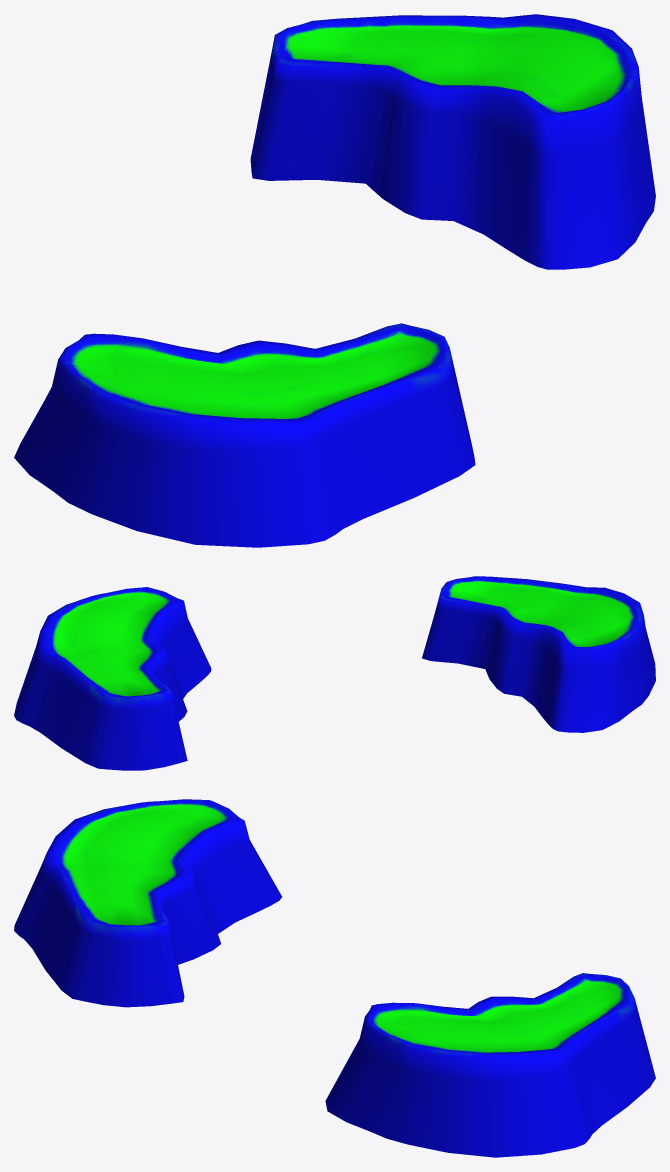
File: SisterIslandsShape.dae
3 views of the same model, one above another, from view 1: azimuth 30°, elevation 25°; view 2: azimuth 150°, elevation 25°; view 3: azimuth 270°, elevation 25° (orthographic). The views are drawn at different scales.
Visible parts, largest first — view 1: SisterIslands; view 2: SisterIslands; view 3: SisterIslands.
Boxes of the visible parts, box(x1,y1,x2,y2) form: SisterIslands: box(14, 14, 655, 547); SisterIslands: box(14, 576, 655, 770); SisterIslands: box(14, 799, 655, 1157).
Bounding box in the file's own units: 285 × 45.37 × 274.
